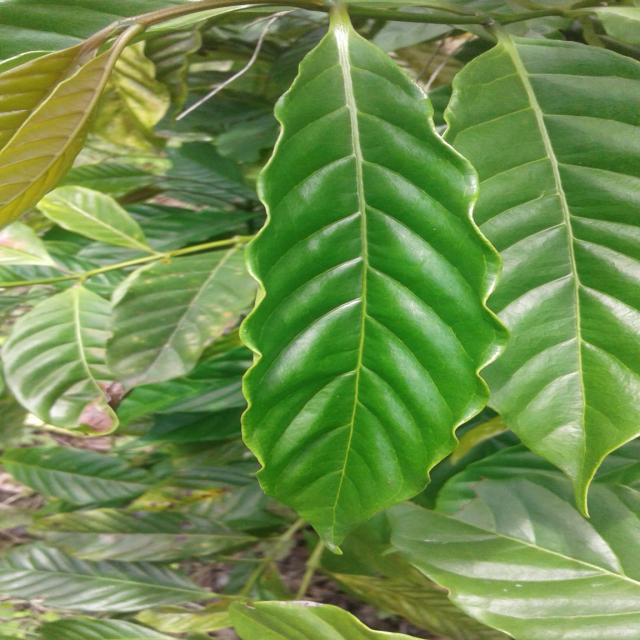Sanas: (240, 3, 508, 548)
